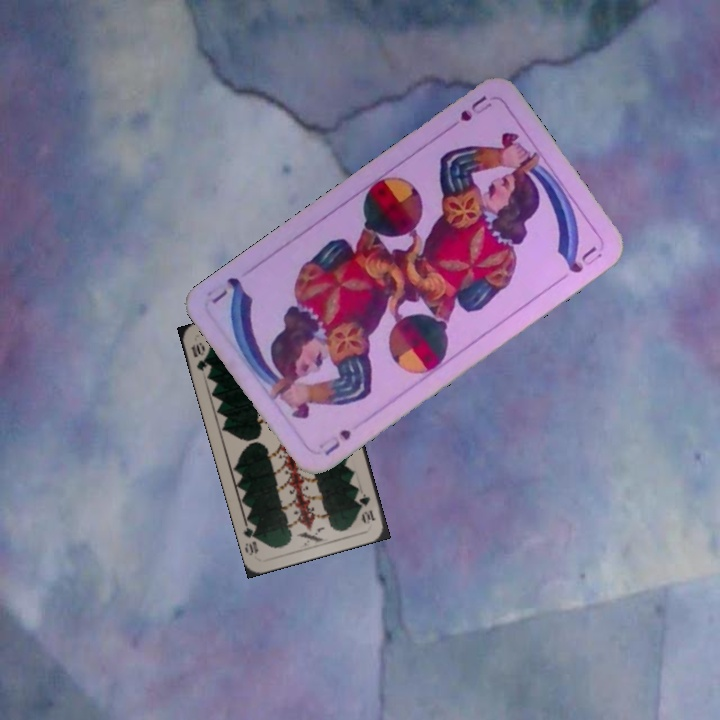G10: (187, 338, 211, 374), (355, 490, 378, 527)
SU: (442, 91, 495, 134), (314, 425, 354, 458)
